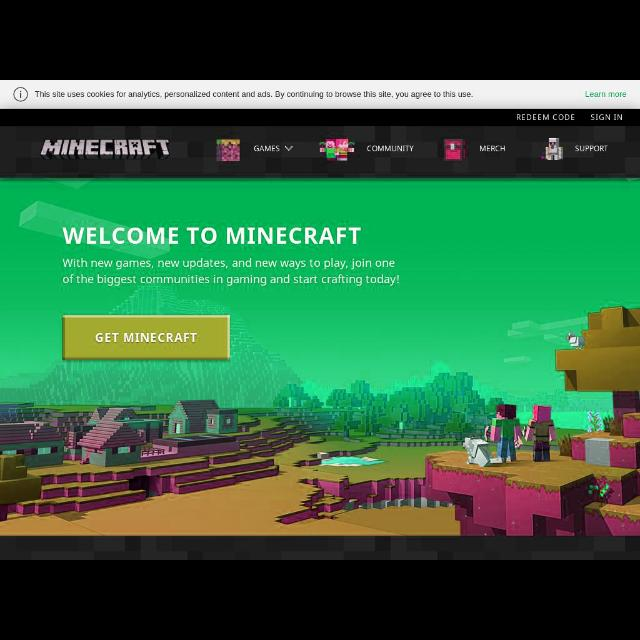backgroundimage: (0, 177, 638, 558)
icon: (14, 87, 28, 101), (284, 146, 292, 152)
image: (39, 139, 169, 159), (319, 138, 355, 162), (216, 140, 240, 162), (540, 139, 564, 161), (444, 139, 466, 161)
text: (62, 228, 360, 245), (64, 274, 398, 286), (62, 258, 394, 270), (35, 91, 473, 99), (96, 332, 196, 343), (366, 144, 414, 152), (517, 114, 575, 120), (586, 90, 626, 98), (479, 144, 505, 152), (254, 144, 280, 152), (576, 146, 608, 152), (592, 114, 622, 120)
textbutton: (62, 316, 230, 360)
toolbar: (1, 110, 639, 178)
